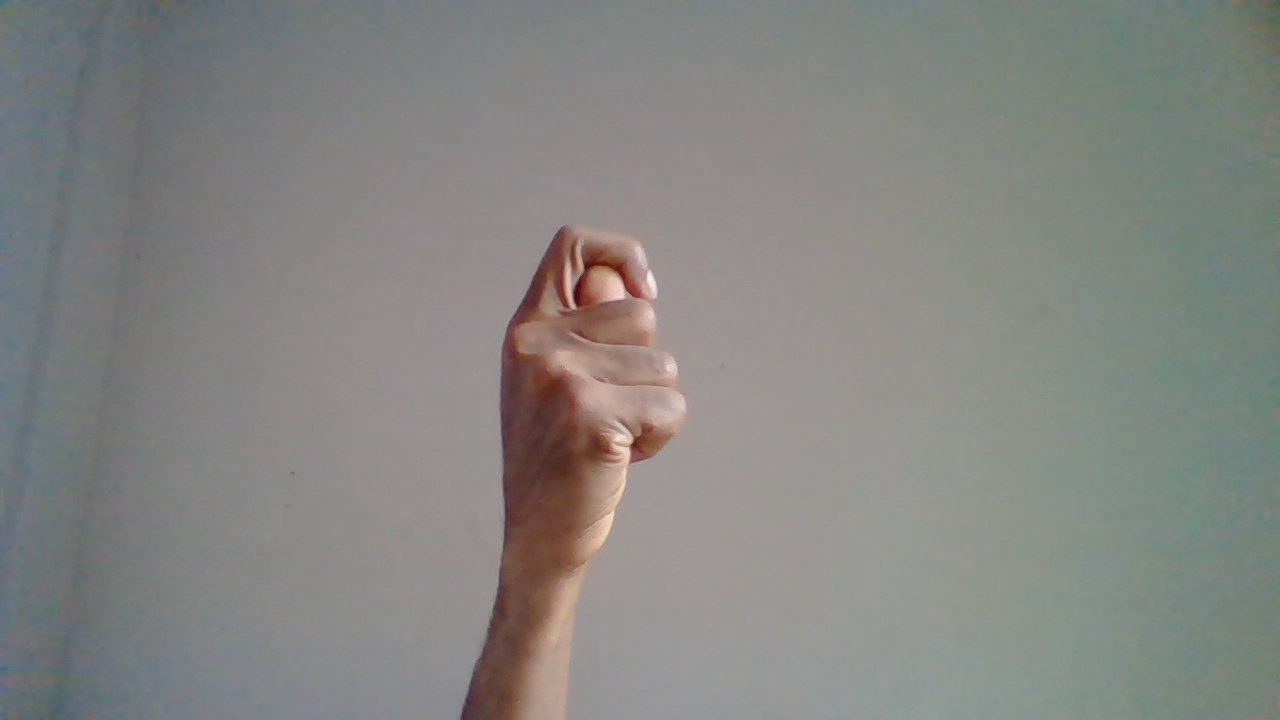che: (493, 216, 694, 701)
